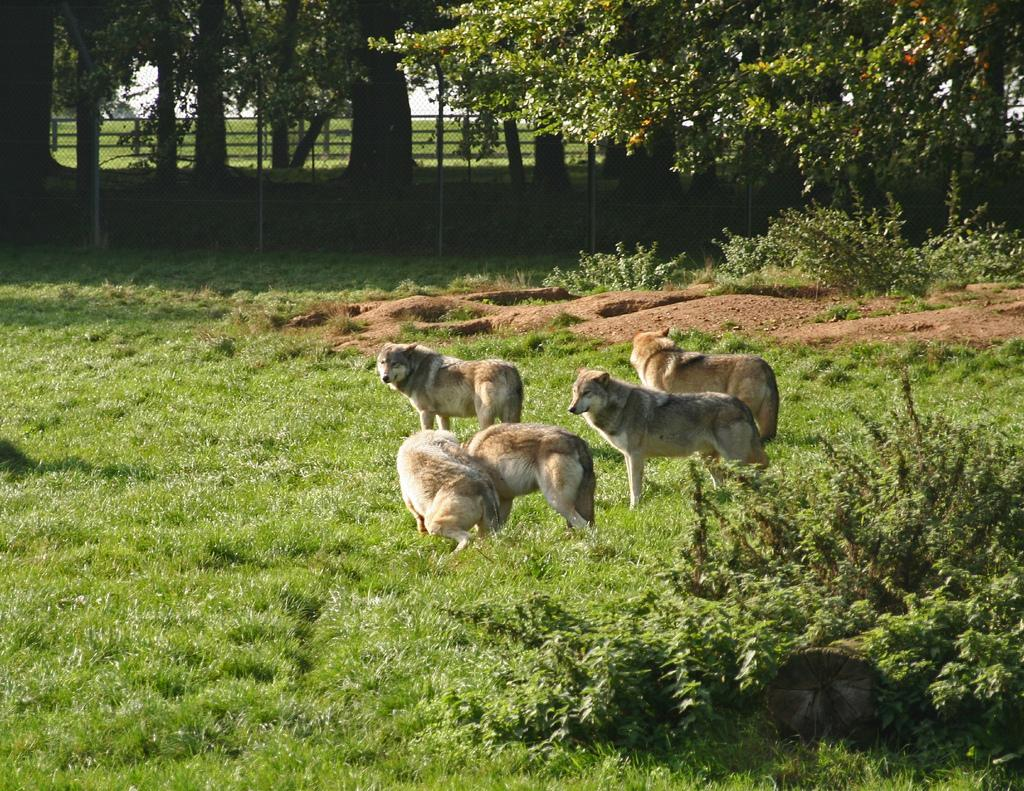Wolf: (568, 366, 763, 515), (626, 326, 786, 440), (468, 413, 598, 536), (388, 436, 511, 551), (378, 341, 525, 430)
